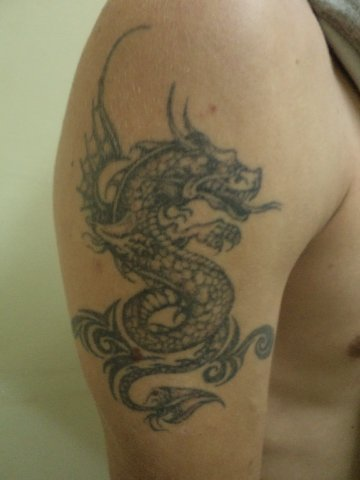tatu6_drakon: (68, 16, 294, 440)
